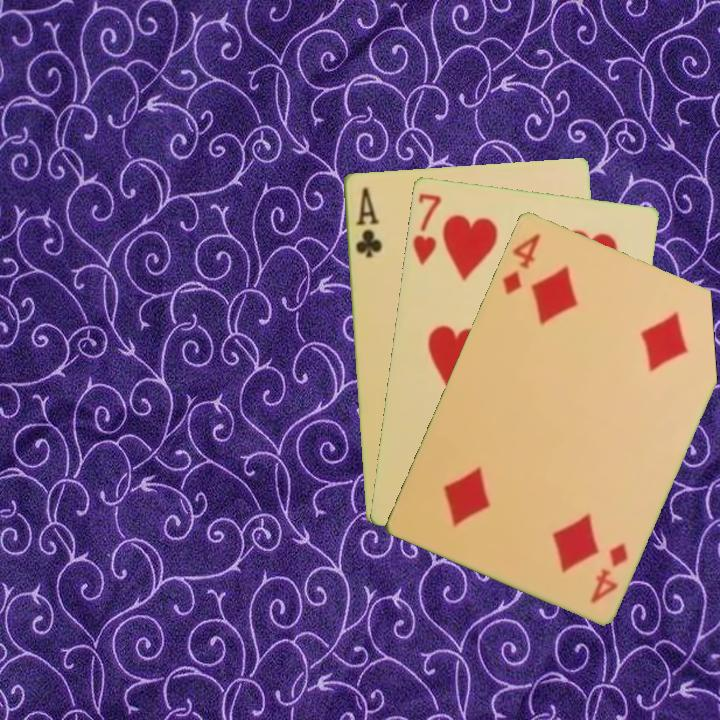4d: (498, 229, 543, 297), (586, 539, 631, 606)
7h: (408, 189, 444, 267)
Ac: (351, 183, 385, 260)
